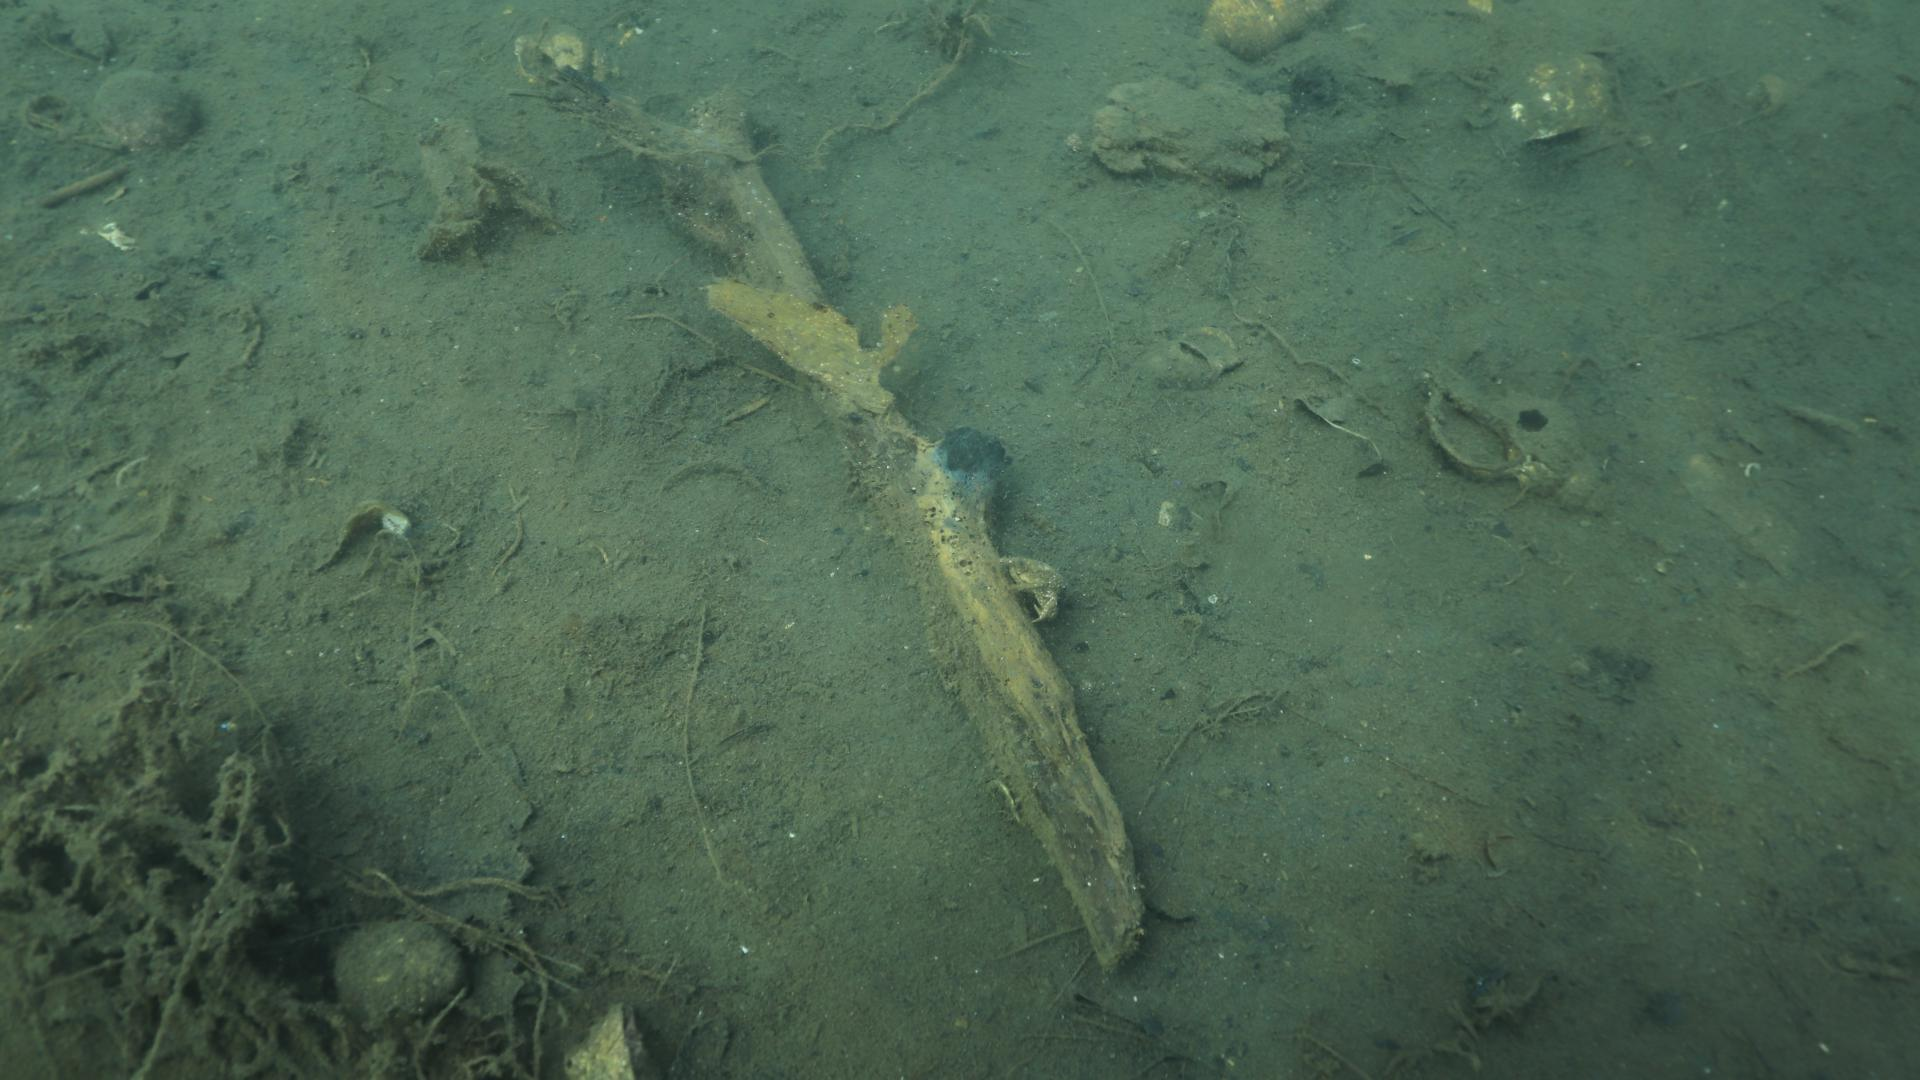wood: (686, 82, 1145, 975)
